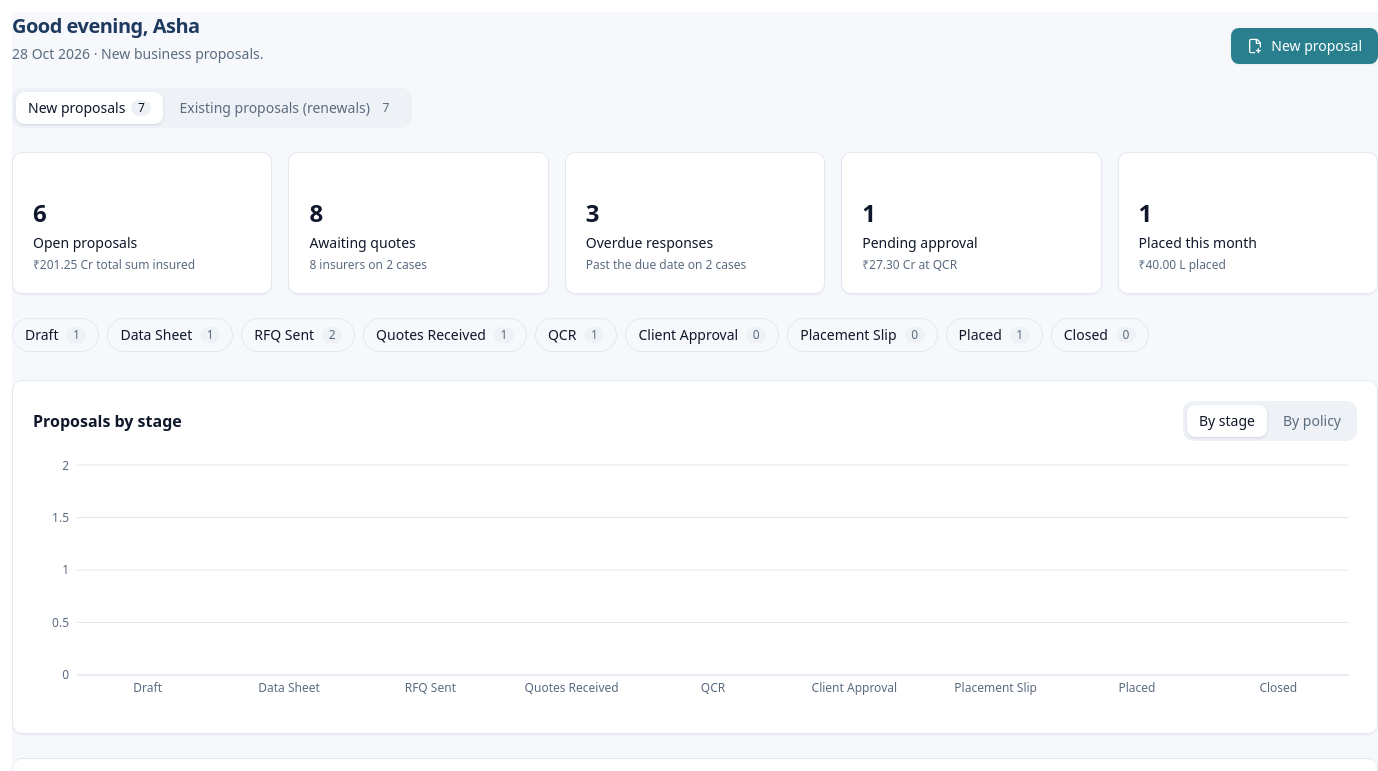
Test: DashboardView › switching to Existing sets ?type=existing and shows the renewal KPIs
Expected: the text "Open proposals" is shown, [33,233,137,252]
Click the tab "Existing proposals (renewals) 7" at [288, 108], box [168,92,408,124]
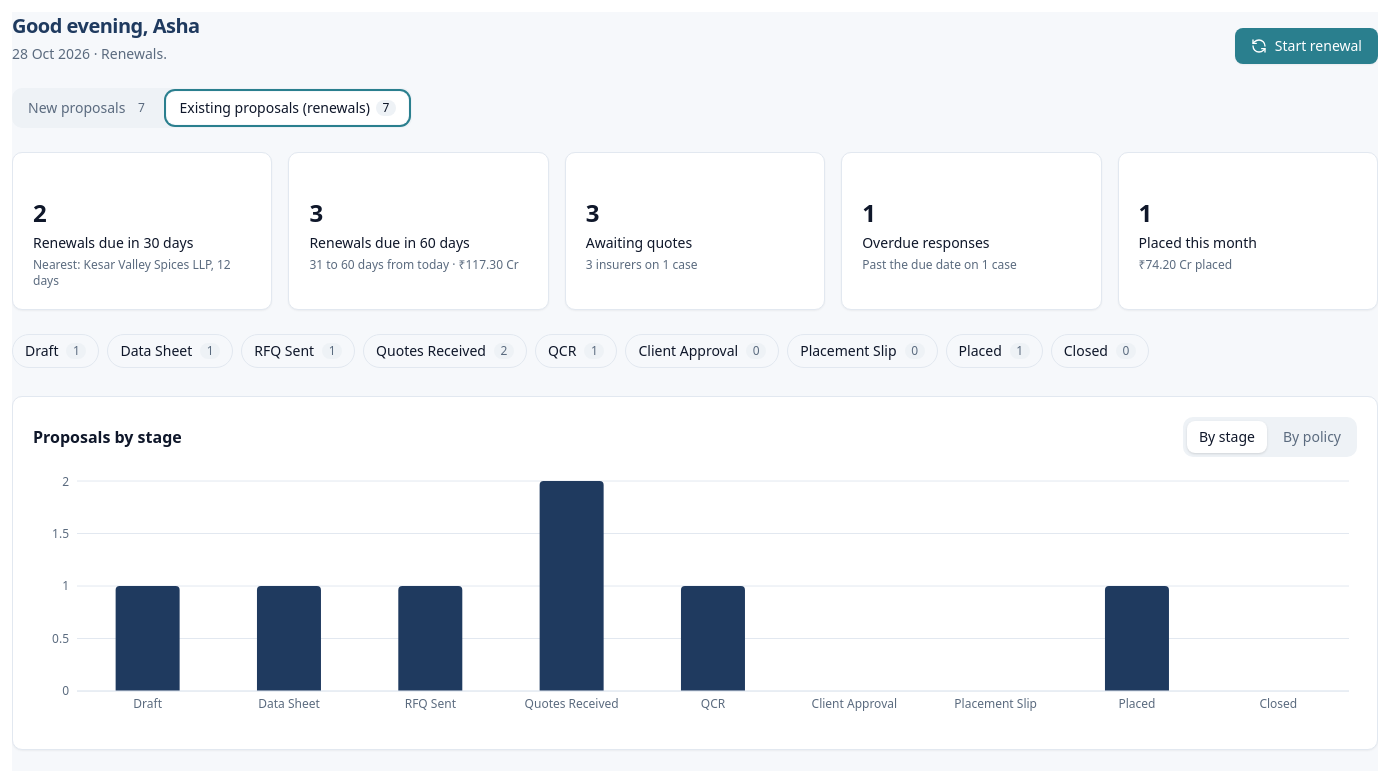
Now the text "Renewals due in 30 days" is shown, box [33,233,193,252]
Now the text "Renewals due in 60 days" is shown, box [309,233,470,252]
Now the text "Open proposals" is gone
